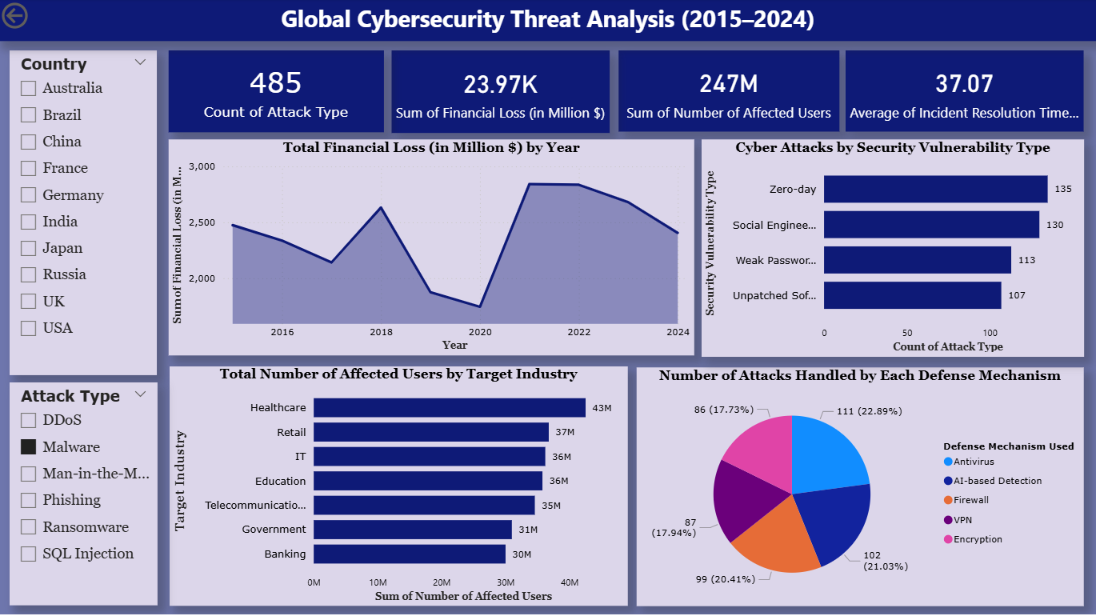

The page's visual inventory and layout, read from the dashboard file:
{"tool":"powerbi","page":{"name":"Page 1","canvas":[1280,720],"ordinal":0},"visuals":[{"type":"card","fields":{"Values":["Sum(Global_Cybersecurity_Threats_2015-2024.Number of Affected Users)"]},"box":[721.9,60.3,256.6,94.3],"z":0},{"type":"slicer","fields":{"Values":["Global_Cybersecurity_Threats_2015-2024.Country"]},"box":[13.8,60,171.2,377.5],"z":1000},{"type":"card","fields":{"Values":["Sum(Global_Cybersecurity_Threats_2015-2024.Financial Loss (in Million $))"]},"box":[457.6,60.3,253.5,95.8],"z":2000},{"type":"card","title":"czc","fields":{"Values":["CountNonNull(Global_Cybersecurity_Threats_2015-2024.Attack Type)"]},"box":[198.8,60,250,95],"z":3000},{"type":"card","fields":{"Values":["Avg(Global_Cybersecurity_Threats_2015-2024.Incident Resolution Time (in Hours))"]},"box":[986.3,60.3,276.7,94.3],"z":4000},{"type":"lineChart","title":"Total Financial Loss (in Million $) by Year","fields":{"Category":["Global_Cybersecurity_Threats_2015-2024.Year"],"Y":["Sum(Global_Cybersecurity_Threats_2015-2024.Financial Loss (in Million $))"]},"box":[198.8,163.8,611.2,251.2],"z":5000},{"type":"clusteredBarChart","title":"Total Number of Affected Users by Target Industry","fields":{"Category":["Global_Cybersecurity_Threats_2015-2024.Target Industry"],"Y":["Sum(Global_Cybersecurity_Threats_2015-2024.Number of Affected Users)"]},"box":[200,427.5,532.5,278.8],"z":6000},{"type":"pieChart","title":"Number of Attacks Handled by Each Defense Mechanism","fields":{"Category":["Global_Cybersecurity_Threats_2015-2024.Defense Mechanism Used"],"Y":["CountNonNull(Global_Cybersecurity_Threats_2015-2024.Attack Type)"]},"box":[743.5,429.2,519.7,277.6],"z":7000},{"type":"slicer","fields":{"Values":["Global_Cybersecurity_Threats_2015-2024.Attack Type"]},"box":[14.4,446.8,171.6,259.4],"z":8000},{"type":"textbox","box":[0,0,1280,49.5],"z":9000},{"type":"actionButton","box":[0,0,100,40],"z":10000},{"type":"clusteredBarChart","title":"Cyber Attacks by Security Vulnerability Type","fields":{"Category":["Global_Cybersecurity_Threats_2015-2024.Security Vulnerability Type"],"Y":["CountNonNull(Global_Cybersecurity_Threats_2015-2024.Attack Type)"]},"box":[818.8,163.8,445,252.5],"z":11000}]}

Visuals, with their boxes in screenshot pixels (x1, y1, x2, y2), scaled from the page's 1280x720 canvas onto the 1096x615 screenshot:
card - Sum(Global_Cybersecurity_Threats_2015-2024.Number of Affected Users): crop(618, 52, 838, 132)
slicer - Global_Cybersecurity_Threats_2015-2024.Country: crop(12, 51, 158, 374)
card - Sum(Global_Cybersecurity_Threats_2015-2024.Financial Loss (in Million $)): crop(392, 52, 609, 133)
"czc" card: crop(170, 51, 384, 132)
card - Avg(Global_Cybersecurity_Threats_2015-2024.Incident Resolution Time (in Hours)): crop(845, 52, 1081, 132)
"Total Financial Loss (in Million $) by Year" lineChart: crop(170, 140, 694, 354)
"Total Number of Affected Users by Target Industry" clusteredBarChart: crop(171, 365, 627, 603)
"Number of Attacks Handled by Each Defense Mechanism" pieChart: crop(637, 367, 1082, 604)
slicer - Global_Cybersecurity_Threats_2015-2024.Attack Type: crop(12, 382, 159, 603)
textbox: crop(0, 0, 1095, 42)
actionButton: crop(0, 0, 86, 34)
"Cyber Attacks by Security Vulnerability Type" clusteredBarChart: crop(701, 140, 1082, 356)
